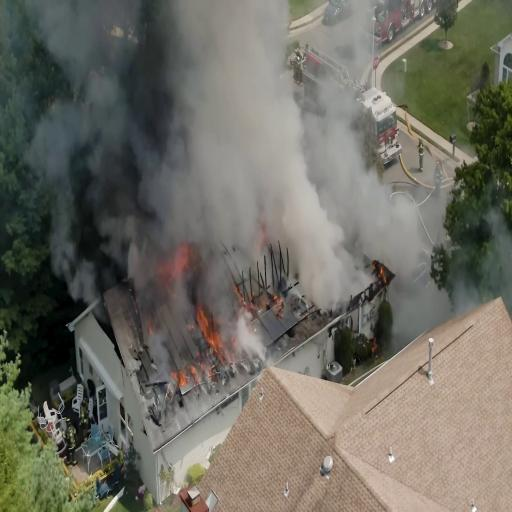smoke: (170, 0, 287, 205), (302, 178, 350, 306)
